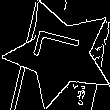L_E: (30, 32, 89, 76)
